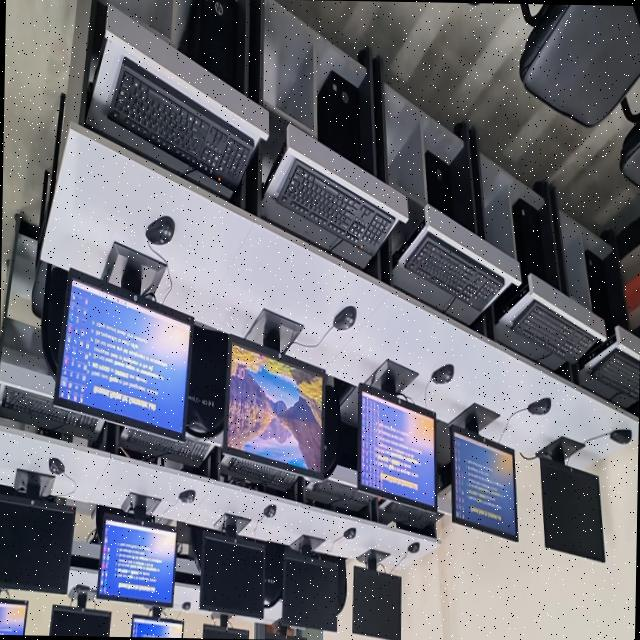Cpu: (495, 182, 567, 320), (580, 230, 629, 379), (178, 0, 240, 85), (317, 71, 369, 166), (425, 153, 452, 216)
Keyboard: (109, 58, 253, 188), (276, 158, 394, 254), (404, 232, 503, 312), (508, 299, 600, 363), (0, 385, 101, 440), (119, 427, 213, 467), (220, 452, 297, 491), (590, 349, 639, 401), (306, 479, 372, 510), (379, 499, 441, 529)
Monitor: (53, 268, 193, 441), (227, 357, 321, 470), (357, 384, 440, 510), (96, 496, 176, 606), (450, 413, 517, 541), (0, 492, 75, 593), (199, 514, 264, 618), (539, 458, 604, 561), (281, 547, 341, 631), (352, 549, 401, 640), (49, 584, 111, 636), (130, 608, 183, 638), (0, 597, 27, 635)
Mouse: (145, 216, 174, 245), (333, 306, 355, 330), (431, 364, 453, 384), (527, 398, 550, 415), (610, 429, 631, 444), (48, 458, 64, 475), (179, 490, 195, 503), (263, 504, 276, 518), (343, 528, 355, 539), (407, 544, 419, 553), (181, 602, 190, 611)
